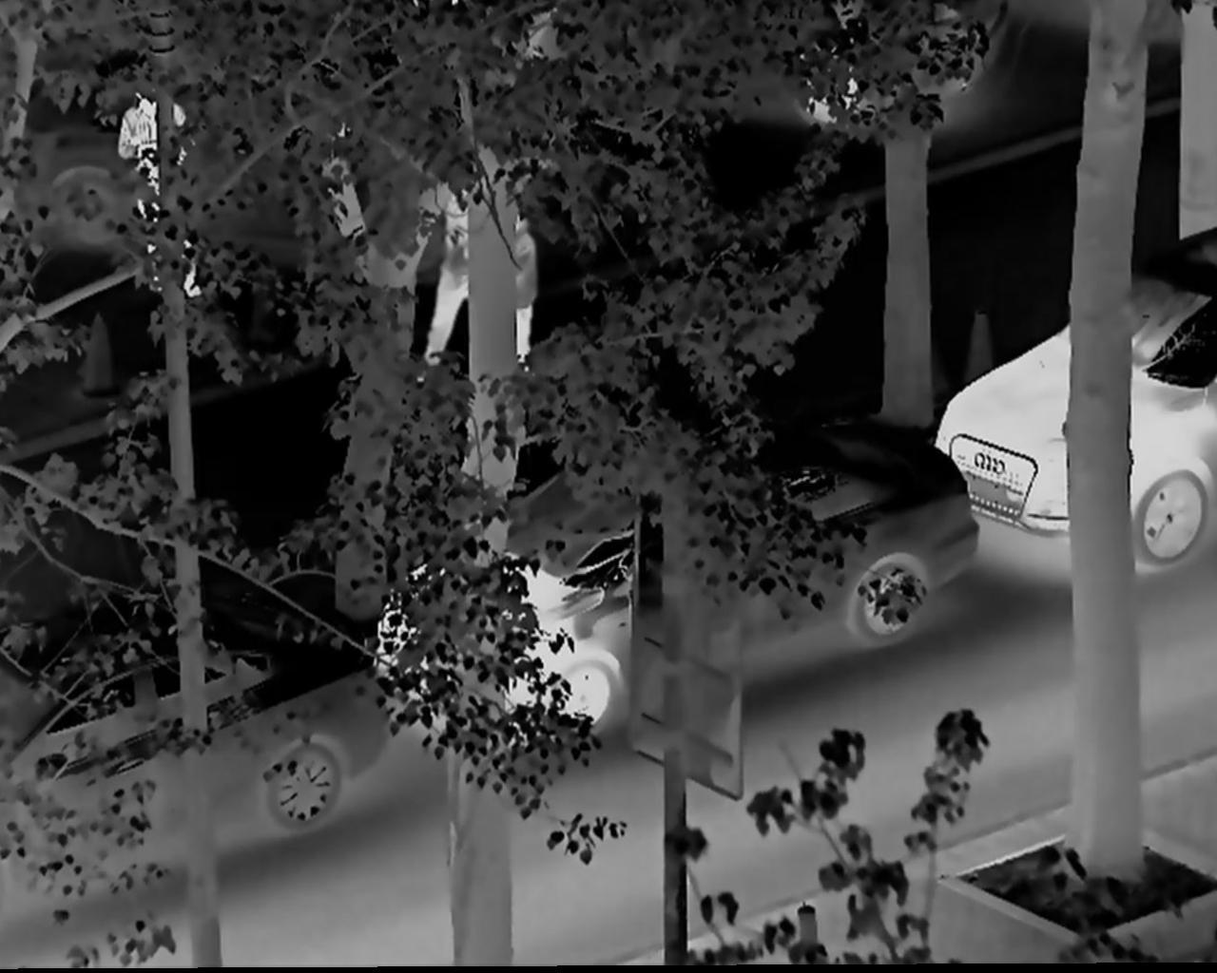person: (114, 86, 206, 308), (423, 178, 480, 379), (497, 204, 540, 372)
